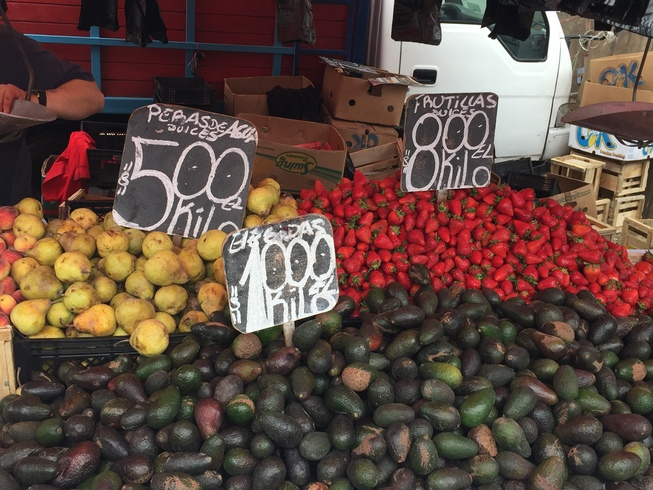precio: (110, 99, 261, 255), (220, 217, 344, 332), (399, 86, 503, 196)
